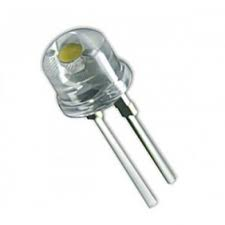LED: (38, 23, 142, 123)
